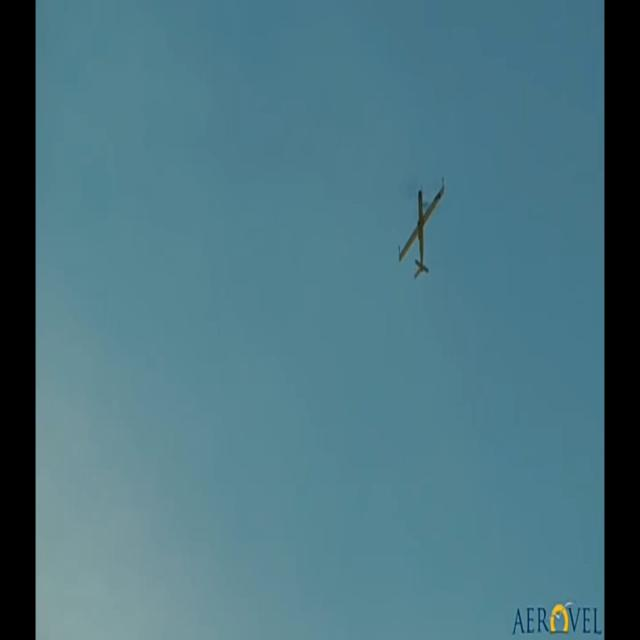iha: (398, 208, 445, 251)
